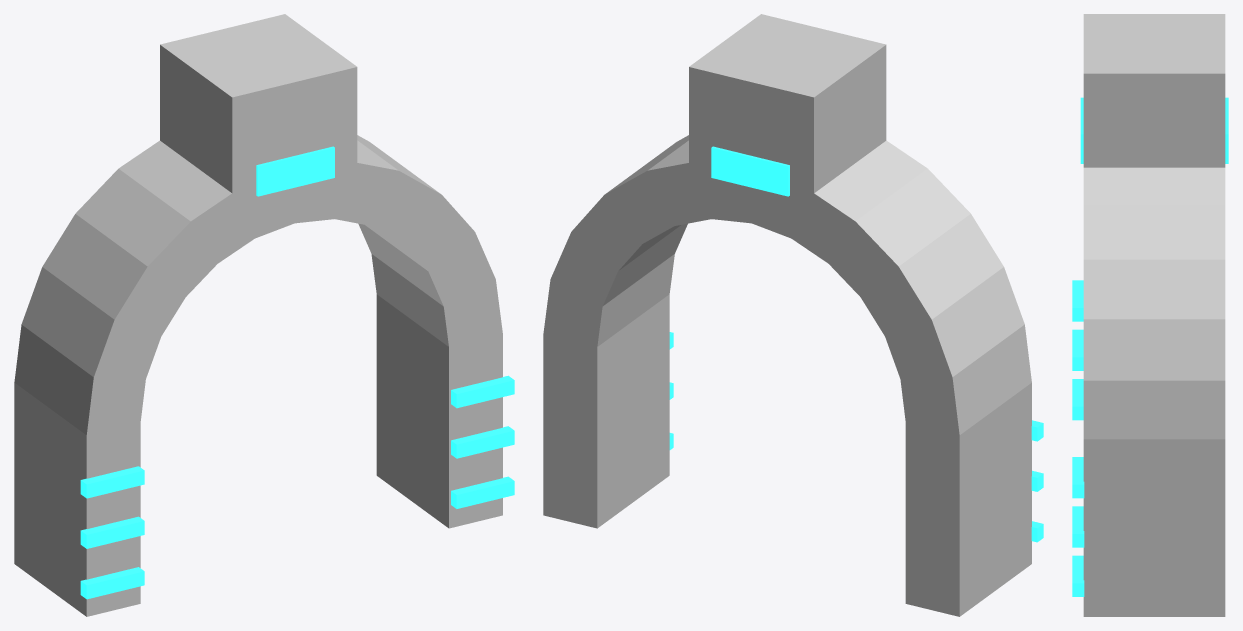
The picture shows the model from 3 angles, left to right: view 1: azimuth 30°, elevation 25°; view 2: azimuth 150°, elevation 25°; view 3: azimuth 270°, elevation 25°; orthographic projection. The views are drawn at different scales.
Visible parts, largest first — view 1: Neon_WindmillBody_Standard; view 2: Neon_WindmillBody_Standard; view 3: Neon_WindmillBody_Standard.
Part boxes in pixels (box(x1,y1,x2,y2)): Neon_WindmillBody_Standard: box(14, 14, 514, 616); Neon_WindmillBody_Standard: box(543, 14, 1043, 616); Neon_WindmillBody_Standard: box(1072, 14, 1228, 616).
Bounding box in the file's own units: 2.22 × 2.4 × 0.7175.
